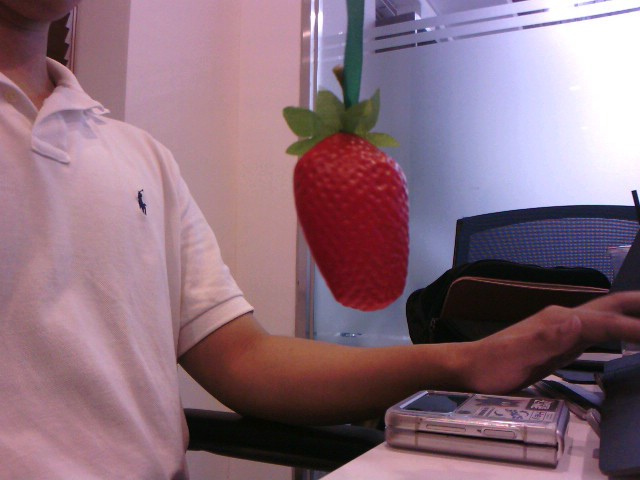strawberry: (283, 122, 412, 310)
